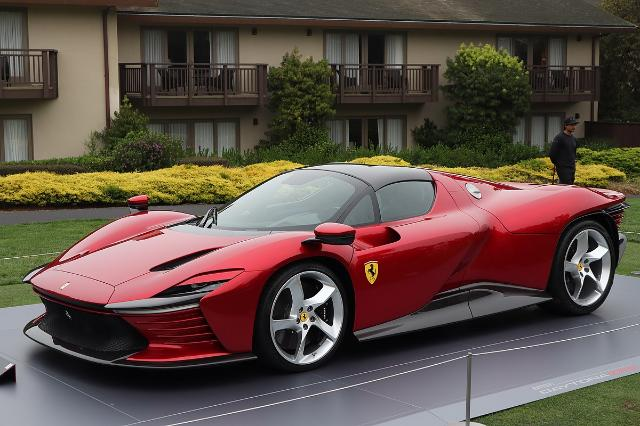ferrari: (21, 161, 631, 373)
